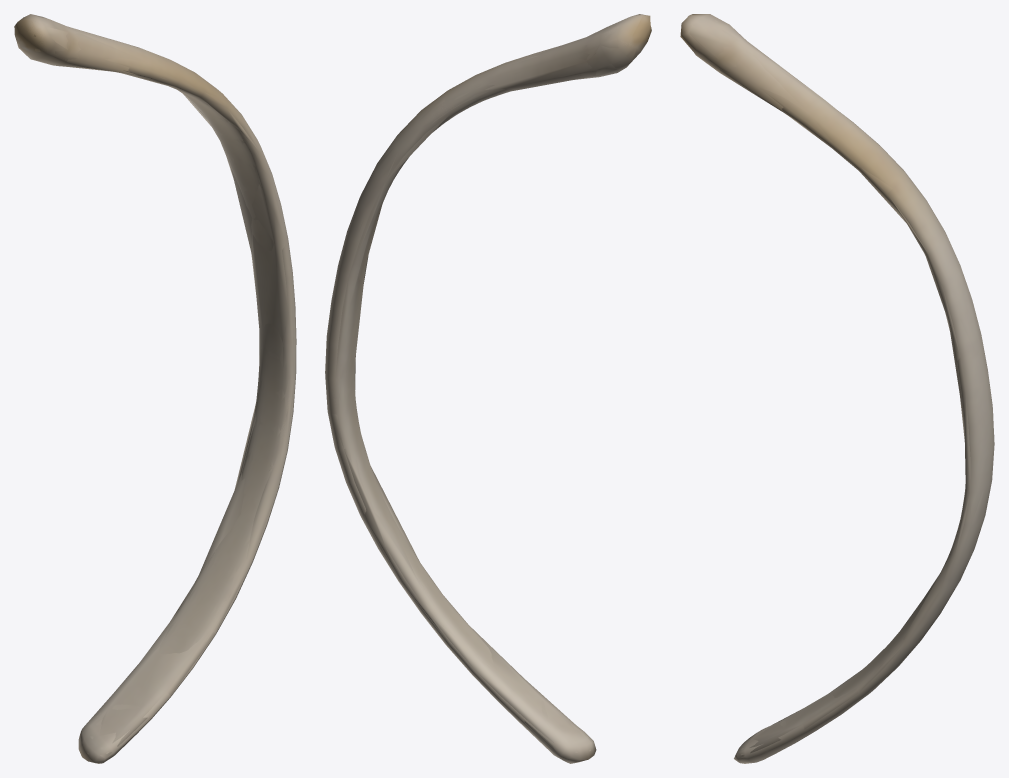
File: Rib L06.fbx
3 views of the same model, side by side, from view 1: azimuth 30°, elevation 25°; view 2: azimuth 150°, elevation 25°; view 3: azimuth 330°, elevation 25° (orthographic). The views are drawn at different scales.
Visible parts, largest first — view 1: Rib L06 low, Rib L06 high, Rib L06; view 2: Rib L06, Rib L06 low, Rib L06 high; view 3: Rib L06, Rib L06 low, Rib L06 high.
Boxes of the visible parts, left/top/right/bottom form: Rib L06 low: left=15, top=19, right=294, bottom=762; Rib L06 high: left=19, top=24, right=292, bottom=757; Rib L06: left=14, top=14, right=296, bottom=763; Rib L06: left=325, top=14, right=651, bottom=763; Rib L06 low: left=328, top=14, right=650, bottom=756; Rib L06 high: left=326, top=25, right=643, bottom=752; Rib L06: left=680, top=14, right=994, bottom=762; Rib L06 low: left=682, top=16, right=990, bottom=763; Rib L06 high: left=681, top=20, right=992, bottom=759.
Bounding box in the file's own units: 6.62 × 16.38 × 2.01.
Materials: 1 (1 with a texture image).
